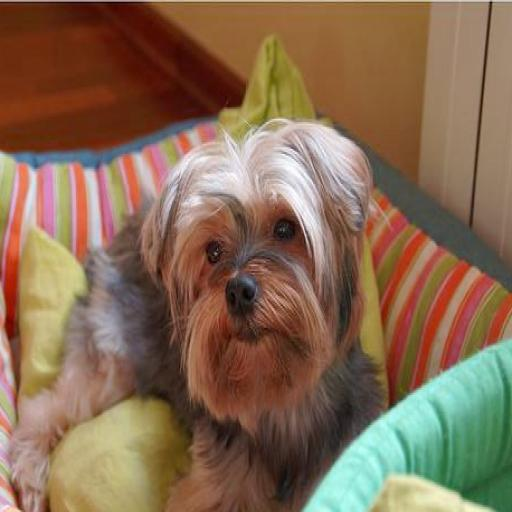dog_face: (145, 126, 369, 408)
